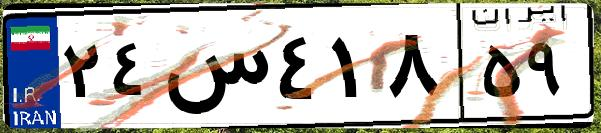1: (330, 28, 385, 110)
2: (57, 26, 110, 100)
4: (270, 28, 330, 110), (110, 28, 158, 98)
5: (475, 38, 525, 113)
8: (385, 28, 445, 110)
9: (525, 38, 570, 115)
س: (158, 20, 270, 120)
